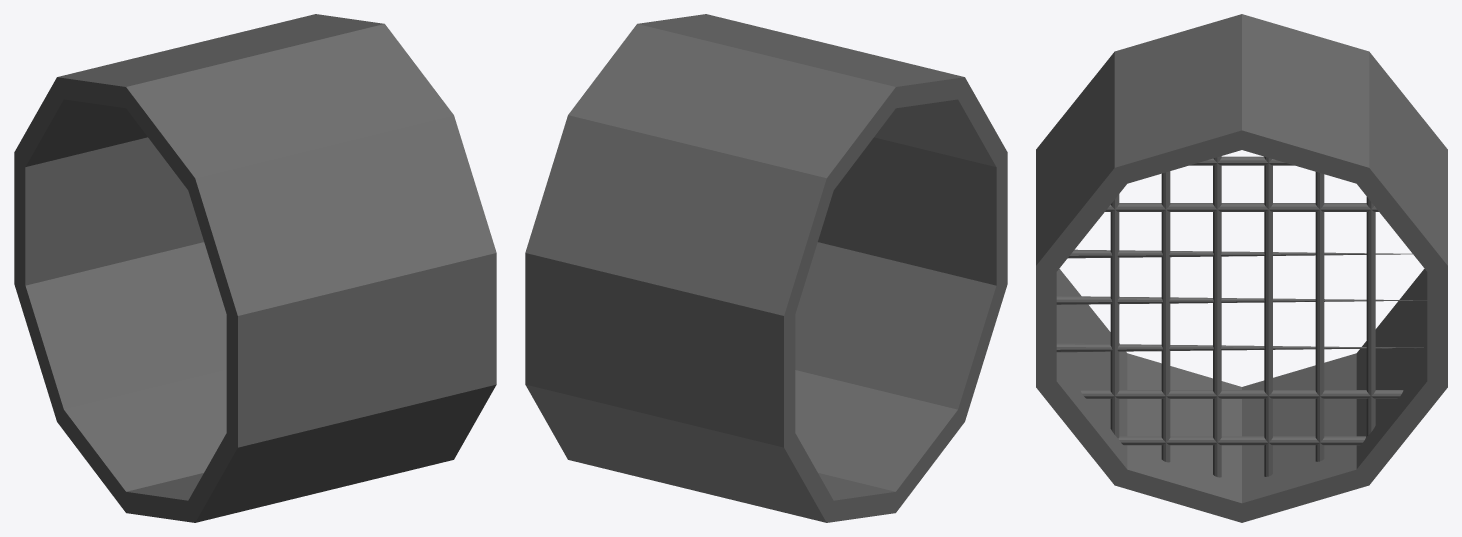
The model's file is obj_sewer_pipe_3.fbx.
The picture shows the model from 3 angles, left to right: view 1: azimuth 30°, elevation 25°; view 2: azimuth 150°, elevation 25°; view 3: azimuth 270°, elevation 25°; orthographic projection. The views are drawn at different scales.
Visible parts, largest first — view 1: obj_sewer_pipe_3; view 2: obj_sewer_pipe_3; view 3: obj_sewer_pipe_3.
Part boxes in pixels (bbox=[...]): obj_sewer_pipe_3: bbox=[14, 14, 496, 522]; obj_sewer_pipe_3: bbox=[525, 14, 1007, 522]; obj_sewer_pipe_3: bbox=[1036, 14, 1447, 522].
Size of the model in its own units: 2.12 by 3.33 by 3.17.
Materials: 1 (1 with a texture image).
